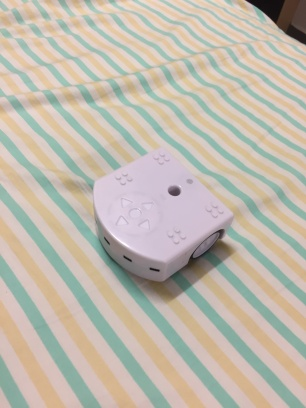thymio: (84, 142, 238, 283)
